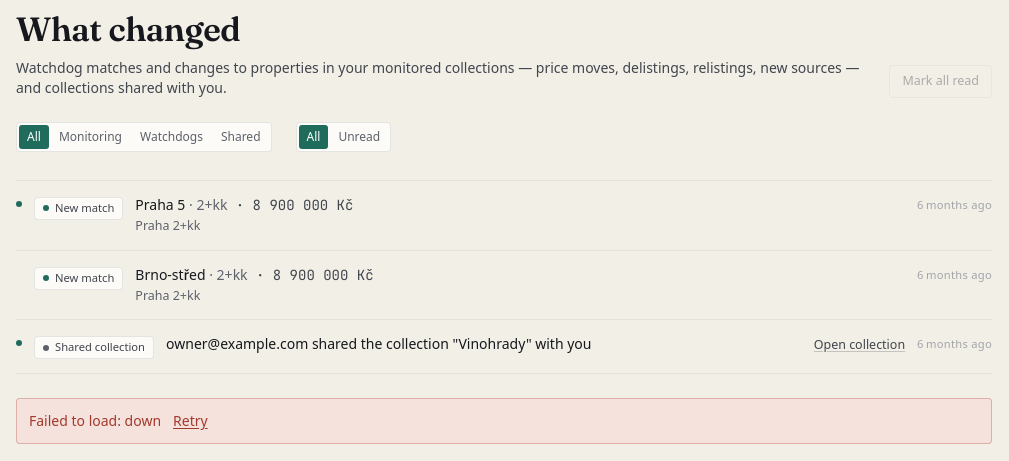
Test: <Notifications> follows the curation clock › a failed read offers a retry; a failed re-read keeps the rows, the banner under them
Check: the text "Failed to load:" is shown, box [29, 411, 121, 430]
Check: the link "New match Praha 5" is shown, box [16, 195, 992, 234]
Click the button "Retry": (190, 421) [173, 411, 208, 431]
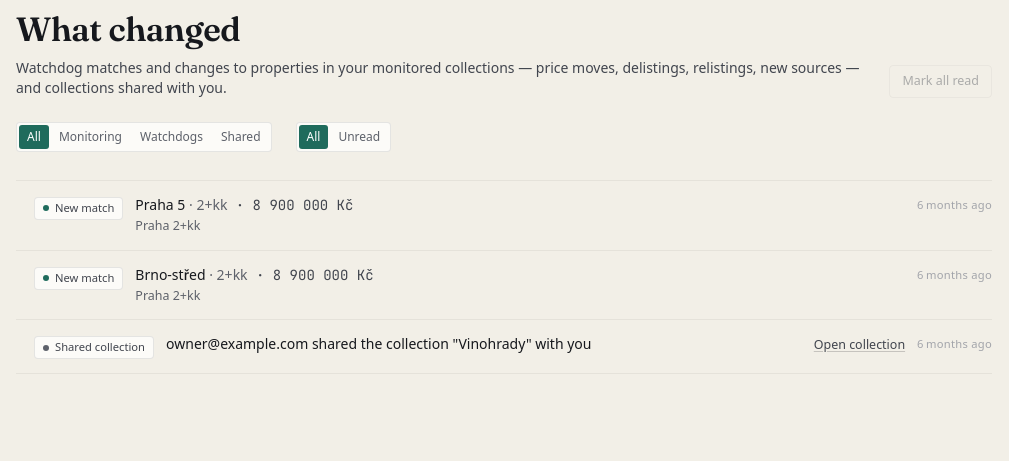
Check: the text "Failed to load" is gone
